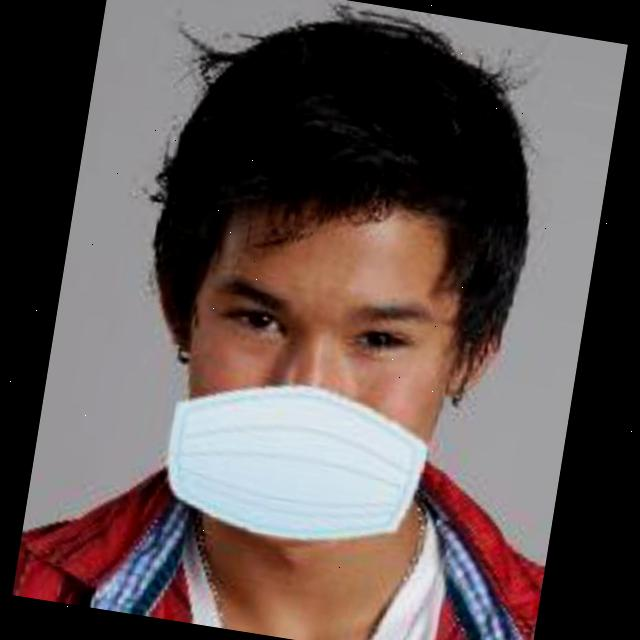suspicion: (92, 89, 550, 551)
